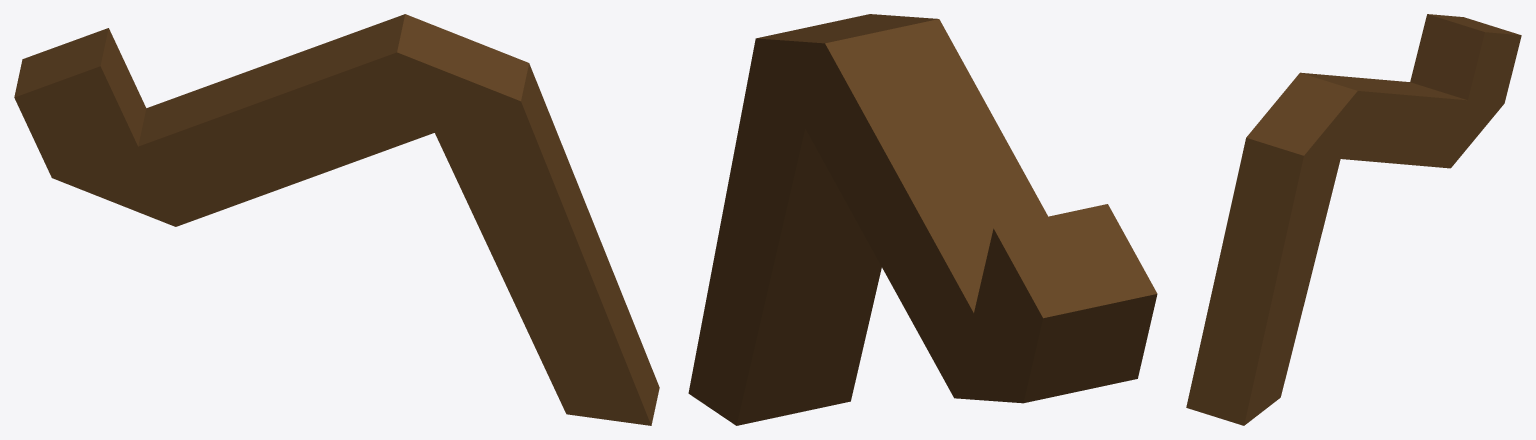
The model's file is legLF.gltf.
3 views of the same model, side by side, from view 1: azimuth 30°, elevation 25°; view 2: azimuth 150°, elevation 25°; view 3: azimuth 270°, elevation 25° (orthographic). The views are drawn at different scales.
Visible parts, largest first — view 1: LegLF; view 2: LegLF; view 3: LegLF.
Boxes of the visible parts, x1,y1,x2,y2 form: LegLF: [14, 14, 659, 425]; LegLF: [688, 14, 1157, 425]; LegLF: [1186, 14, 1521, 425].
Bounding box in the file's own units: 1.22 × 0.8474 × 0.9503.
